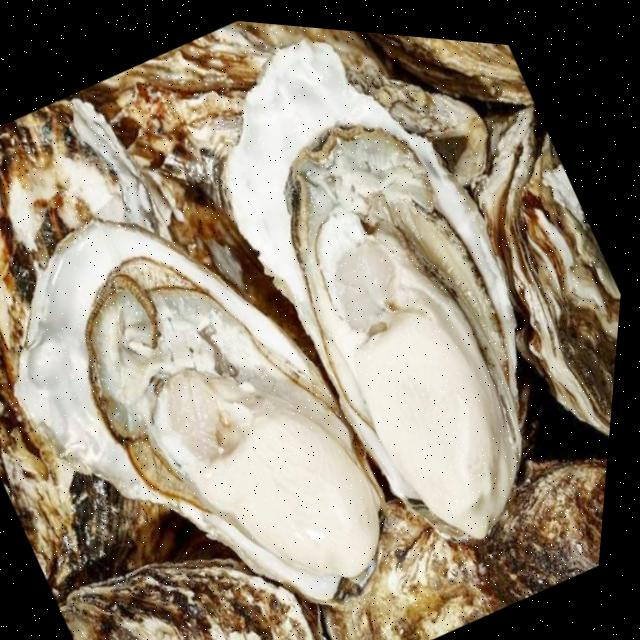Oyster-Indeterminate: (0, 67, 331, 623), (71, 8, 506, 323), (404, 96, 635, 484), (280, 393, 610, 640), (49, 485, 355, 640), (313, 29, 537, 168)
Oyster-Open: (137, 16, 639, 600), (0, 131, 448, 640)
